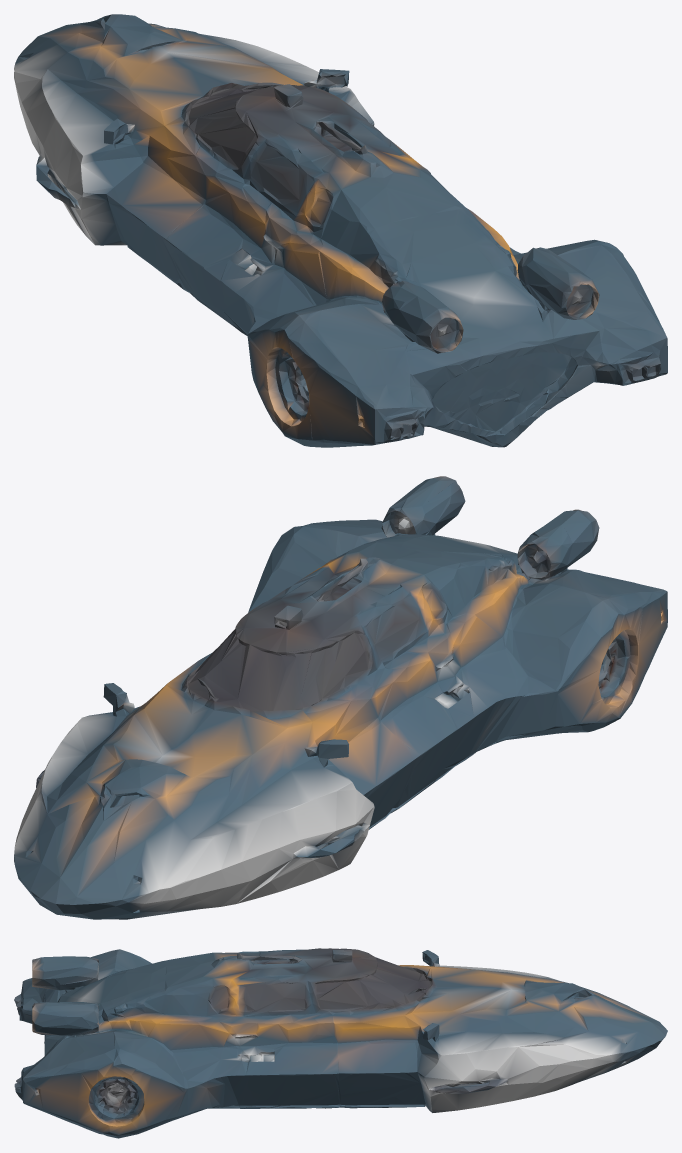
File: ironclad_lo.glb
3 views of the same model, one above another, from view 1: azimuth 30°, elevation 25°; view 2: azimuth 150°, elevation 25°; view 3: azimuth 270°, elevation 25° (orthographic). The views are drawn at different scales.
Visible parts, largest first — view 1: geometry_0; view 2: geometry_0; view 3: geometry_0.
Part boxes in pixels (left/top/right/bottom): geometry_0: left=14, top=14, right=667, bottom=447; geometry_0: left=14, top=476, right=667, bottom=919; geometry_0: left=14, top=948, right=667, bottom=1138.
Bounding box in the file's own units: 3.76 × 2.24 × 9.2.
